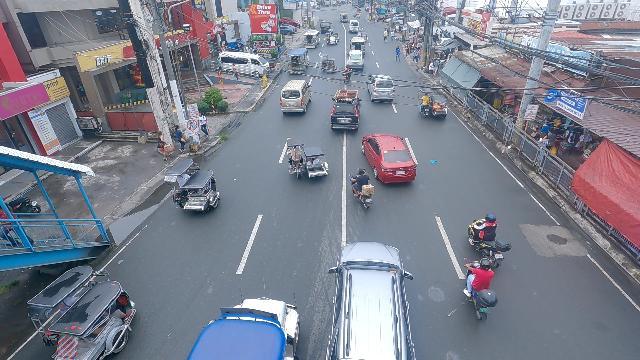car: (326, 240, 419, 360), (362, 134, 417, 185), (329, 91, 361, 132), (367, 74, 396, 103), (346, 50, 365, 71)
jeepney: (287, 48, 310, 75), (303, 30, 320, 49), (349, 36, 366, 55), (339, 12, 349, 22)
motorcycle: (466, 215, 509, 266), (464, 260, 496, 321), (349, 170, 377, 214), (341, 68, 353, 84)
van: (217, 51, 267, 80), (278, 80, 312, 115), (320, 20, 332, 33), (349, 20, 360, 33)
